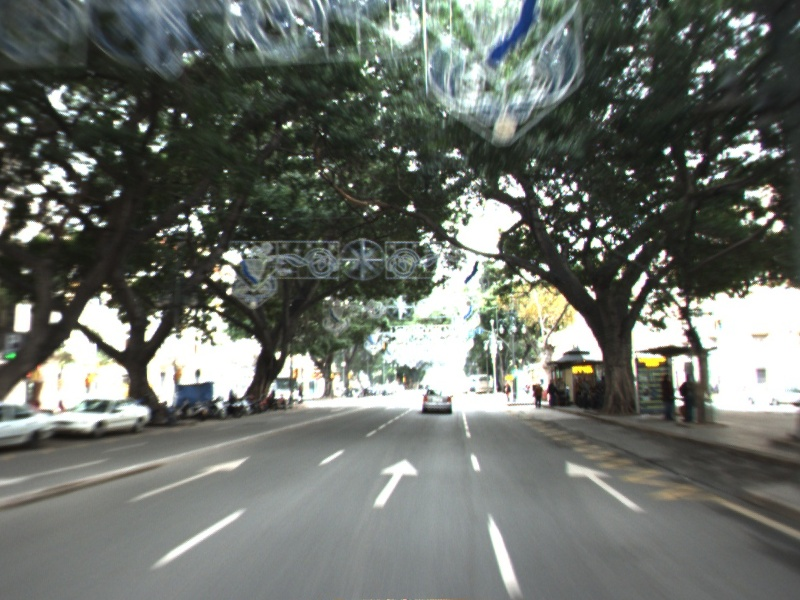STRAIGHT: (123, 455, 252, 505), (563, 458, 649, 516), (370, 457, 421, 510)
